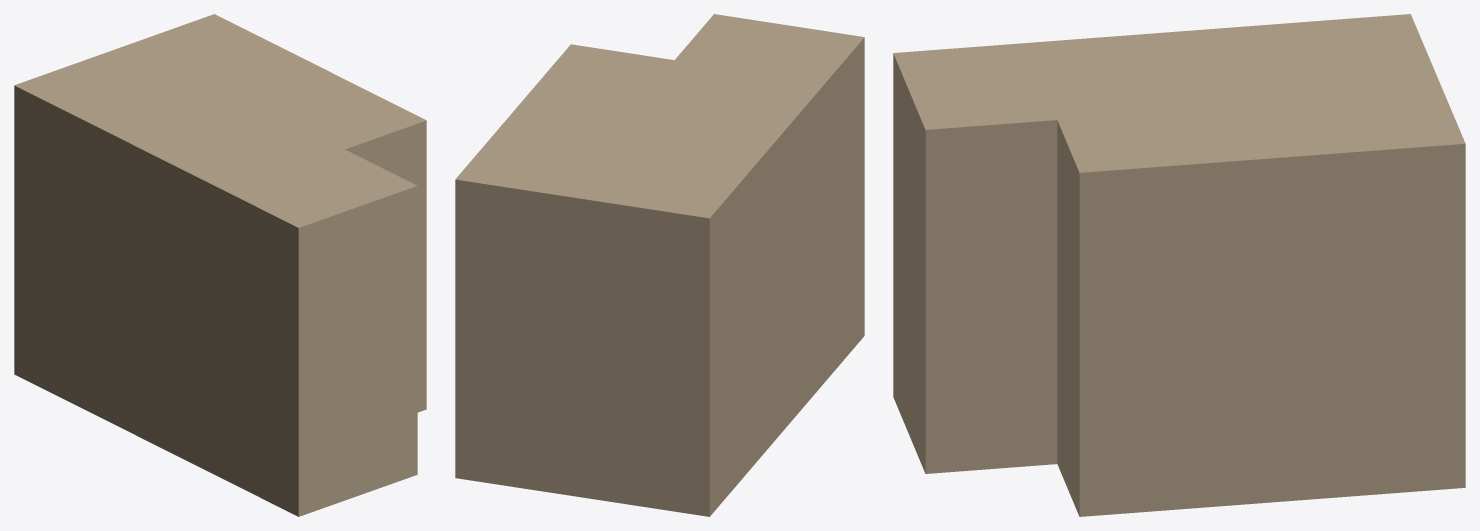
The model's file is bld_99867667.dae.
The picture shows the model from 3 angles, left to right: view 1: azimuth 30°, elevation 25°; view 2: azimuth 150°, elevation 25°; view 3: azimuth 270°, elevation 25°; orthographic projection. The views are drawn at different scales.
Parts seen in each view (by area): view 1: bld_99867667; view 2: bld_99867667; view 3: bld_99867667.
Boxes of the visible parts, box(x1,y1,x2,y2) form: bld_99867667: box(14, 14, 426, 516); bld_99867667: box(455, 14, 864, 516); bld_99867667: box(893, 14, 1465, 516).
Size of the model in its own units: 7.92 by 12.06 by 8.
